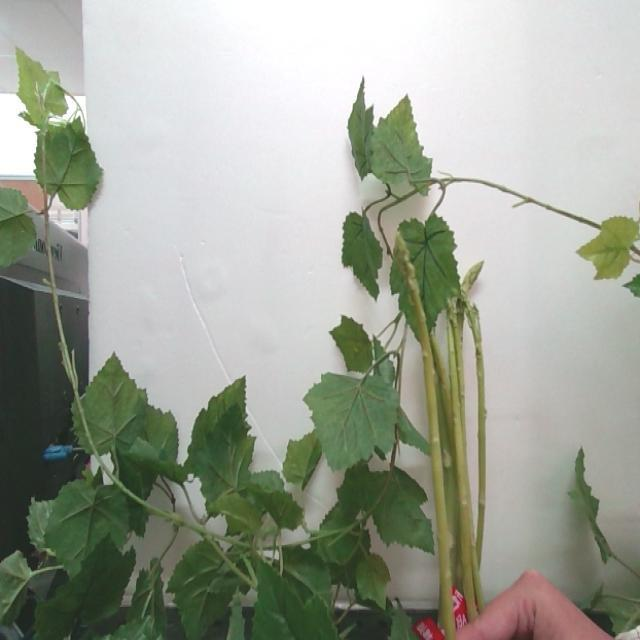aspargus: (396, 230, 455, 640)
